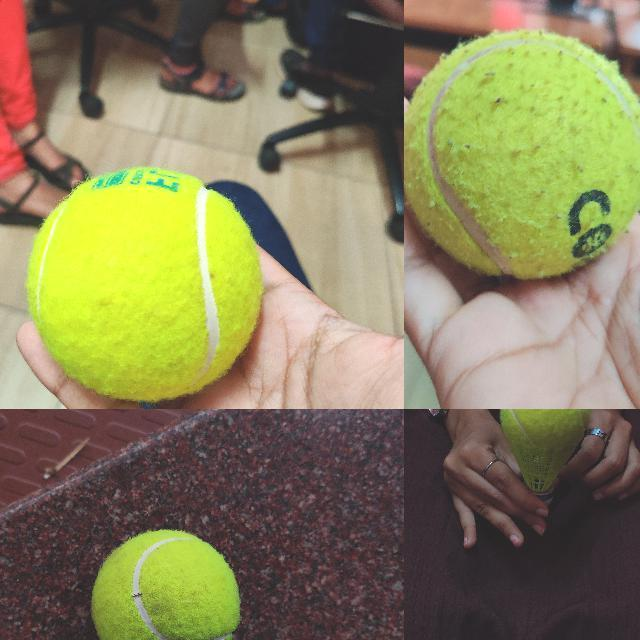Tennis Ball: (405, 31, 640, 280), (28, 169, 261, 399), (91, 529, 241, 639), (501, 409, 589, 438)
